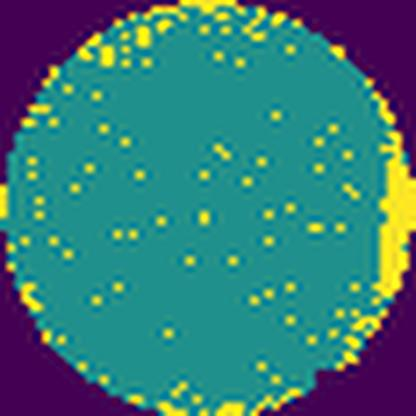Edge-Loc: (368, 99, 416, 304)
